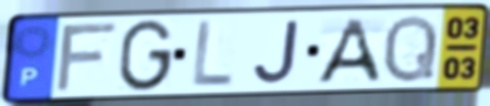A: (313, 16, 384, 86)
F: (52, 20, 121, 95)
G: (115, 17, 177, 94)
J: (250, 18, 303, 86)
L: (189, 18, 236, 90)
Q: (379, 12, 441, 86)
